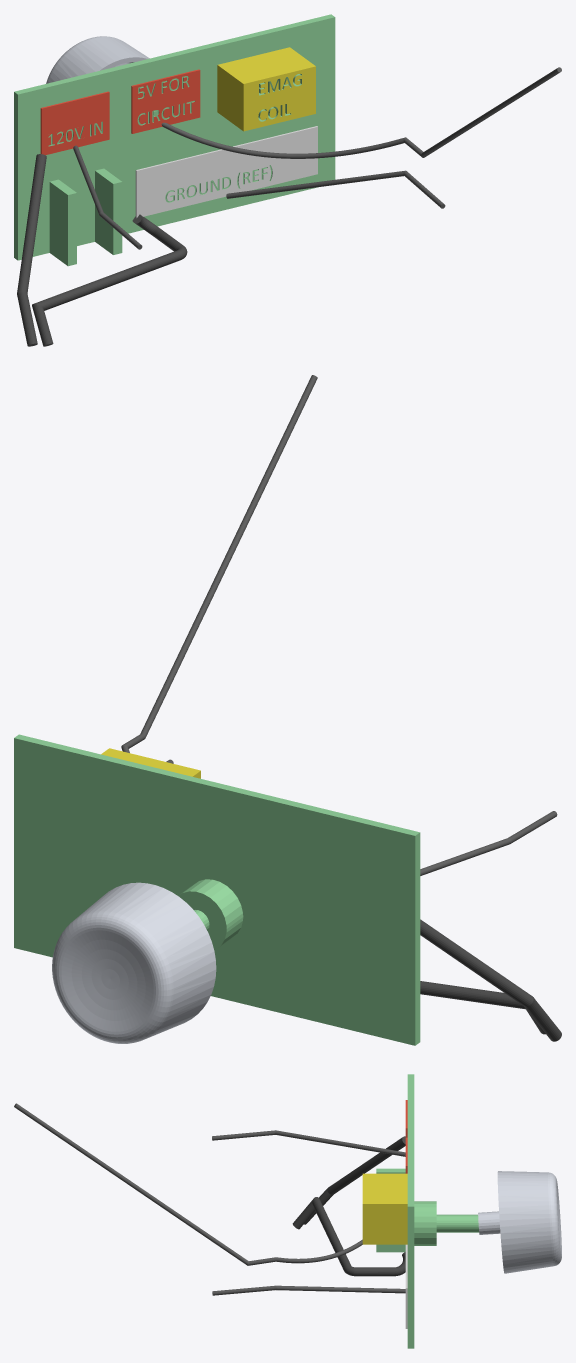
File: Circuit with Wires.fbx
The picture shows the model from 3 angles, top to bottom: view 1: azimuth 30°, elevation 25°; view 2: azimuth 150°, elevation 25°; view 3: azimuth 270°, elevation 25°; orthographic projection. The views are drawn at different scales.
Parts seen in each view (by area): view 1: Shape_IndexedFaceSet.005, Shape_IndexedFaceSet.001, Shape_IndexedFaceSet.006, Shape_IndexedFaceSet.003, Shape_IndexedFaceSet, Shape_IndexedFaceSet.004, Shape_IndexedFaceSet.002; view 2: Shape_IndexedFaceSet.005, Shape_IndexedFaceSet.006, Shape_IndexedFaceSet.003, Shape_IndexedFaceSet, Shape_IndexedFaceSet.001, Shape_IndexedFaceSet.002; view 3: Shape_IndexedFaceSet.005, Shape_IndexedFaceSet.006, Shape_IndexedFaceSet.003, Shape_IndexedFaceSet.001, Shape_IndexedFaceSet.002, Shape_IndexedFaceSet.004, Shape_IndexedFaceSet.
Boxes of the visible parts, left/top/right/bottom form: Shape_IndexedFaceSet.005: left=14, top=14, right=335, bottom=266; Shape_IndexedFaceSet.001: left=32, top=214, right=187, bottom=346; Shape_IndexedFaceSet.006: left=46, top=36, right=149, bottom=83; Shape_IndexedFaceSet.003: left=161, top=67, right=561, bottom=158; Shape_IndexedFaceSet: left=17, top=154, right=46, bottom=346; Shape_IndexedFaceSet.004: left=226, top=170, right=445, bottom=208; Shape_IndexedFaceSet.002: left=73, top=145, right=142, bottom=249; Shape_IndexedFaceSet.005: left=14, top=734, right=420, bottom=1045; Shape_IndexedFaceSet.006: left=52, top=882, right=216, bottom=1043; Shape_IndexedFaceSet.003: left=121, top=375, right=317, bottom=752; Shape_IndexedFaceSet: left=420, top=919, right=561, bottom=1041; Shape_IndexedFaceSet.001: left=420, top=981, right=545, bottom=1034; Shape_IndexedFaceSet.002: left=420, top=811, right=557, bottom=875; Shape_IndexedFaceSet.005: left=362, top=1074, right=479, bottom=1348; Shape_IndexedFaceSet.006: left=478, top=1171, right=561, bottom=1273; Shape_IndexedFaceSet.003: left=14, top=1103, right=362, bottom=1265; Shape_IndexedFaceSet.001: left=292, top=1197, right=405, bottom=1276; Shape_IndexedFaceSet.002: left=212, top=1130, right=405, bottom=1156; Shape_IndexedFaceSet.004: left=212, top=1285, right=405, bottom=1295; Shape_IndexedFaceSet: left=304, top=1136, right=405, bottom=1224.
Bounding box in the file's own units: 10.31 × 8.45 × 15.53.
